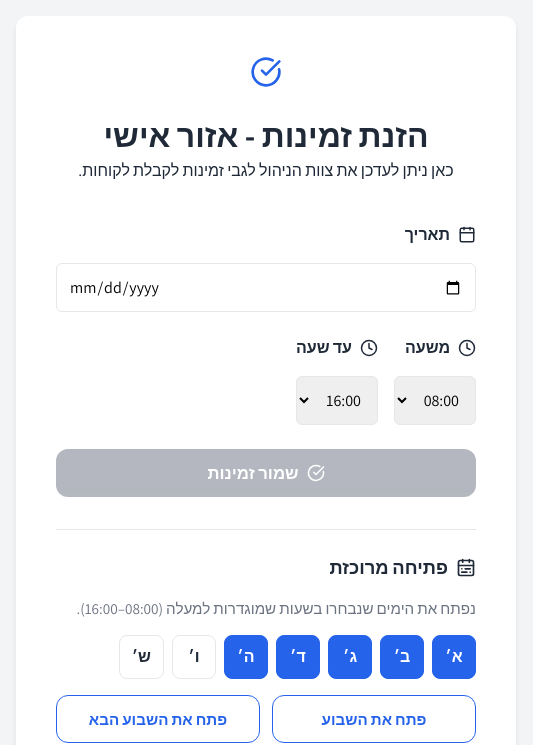
Test case: EmployeeAvailabilityPage › bulk open › shows the info message when "this week" is clicked on a Friday with default toggles
Expected: the heading "פתיחה מרוכזת" is shown, [329,555,476,579]
Click the button "פתח את השבוע".
click(374, 719)  # box [272,695,476,743]
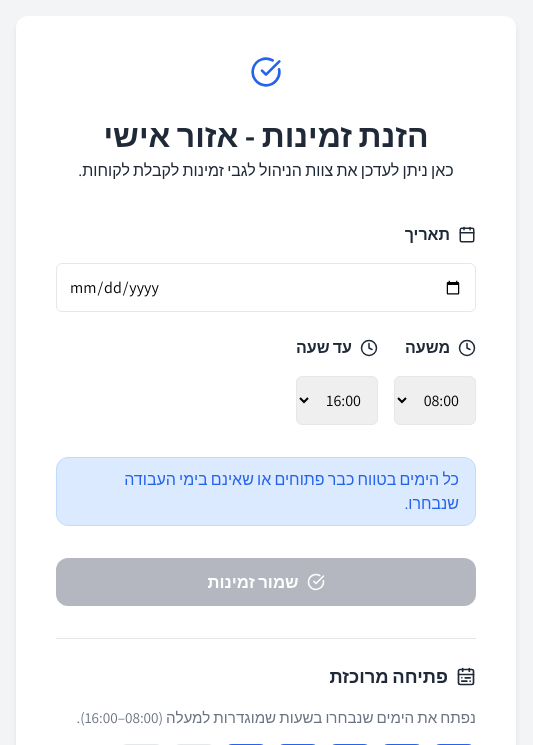
Expected: the text "כל הימים בטווח כבר פתוחים או שאינם בימי העבודה שנבחרו." is shown, [56,457,476,526]
